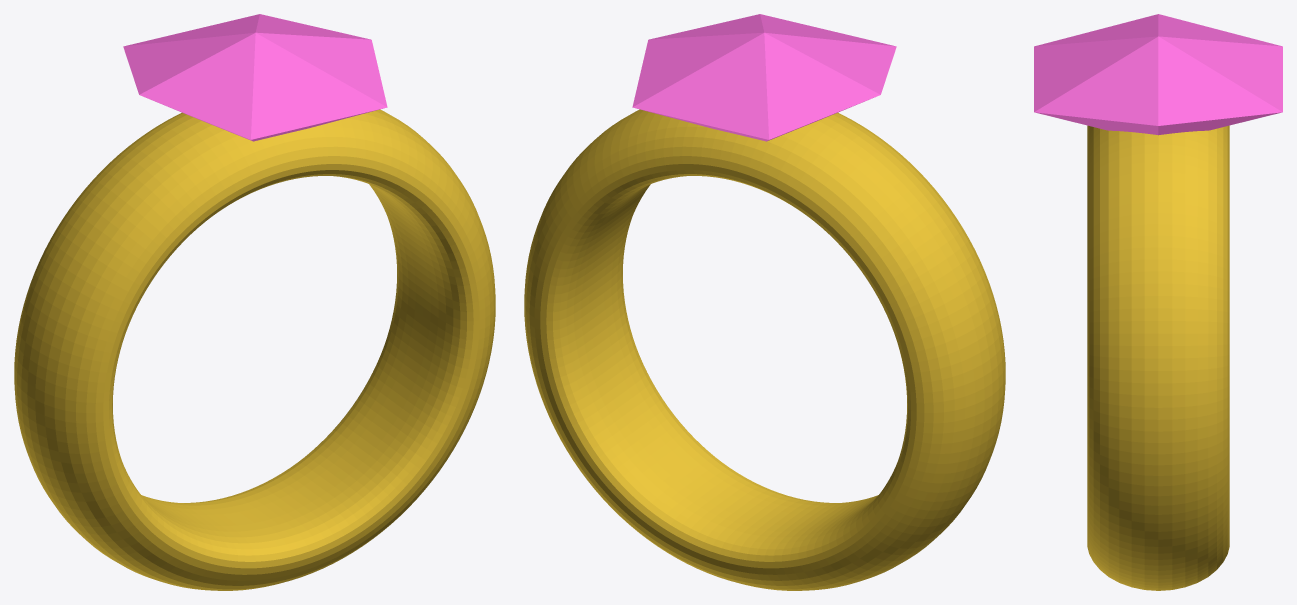
Rendered from Ring.fbx.
3 views of the same model, side by side, from view 1: azimuth 30°, elevation 25°; view 2: azimuth 150°, elevation 25°; view 3: azimuth 270°, elevation 25° (orthographic). The views are drawn at different scales.
Visible parts, largest first — view 1: Ring 1; view 2: Ring 1; view 3: Ring 1.
Boxes of the visible parts, x1,y1,x2,y2 form: Ring 1: [14, 14, 495, 590]; Ring 1: [524, 14, 1005, 590]; Ring 1: [1034, 14, 1282, 590].
Bounding box in the file's own units: 17.54 × 20.05 × 8.52.
